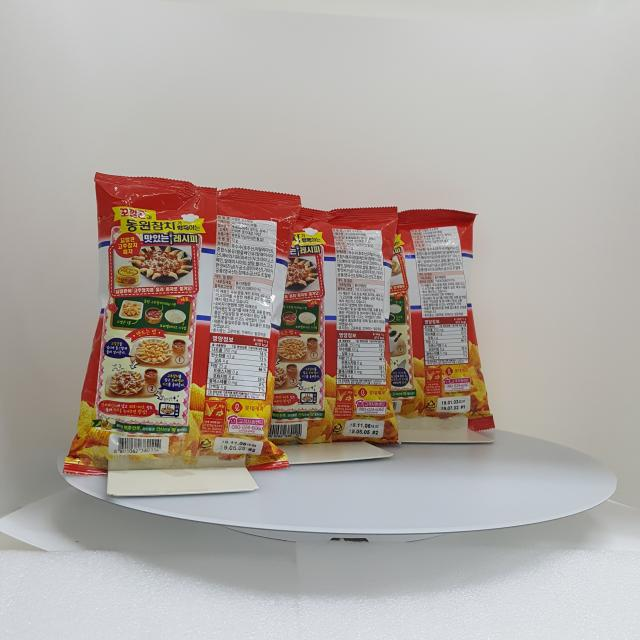-72G: (64, 173, 302, 476), (242, 207, 404, 447), (335, 209, 496, 432)
